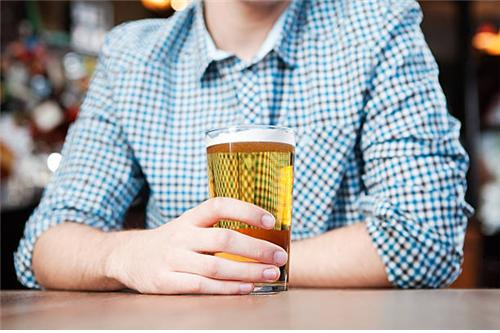alcohol: (205, 123, 291, 295)
